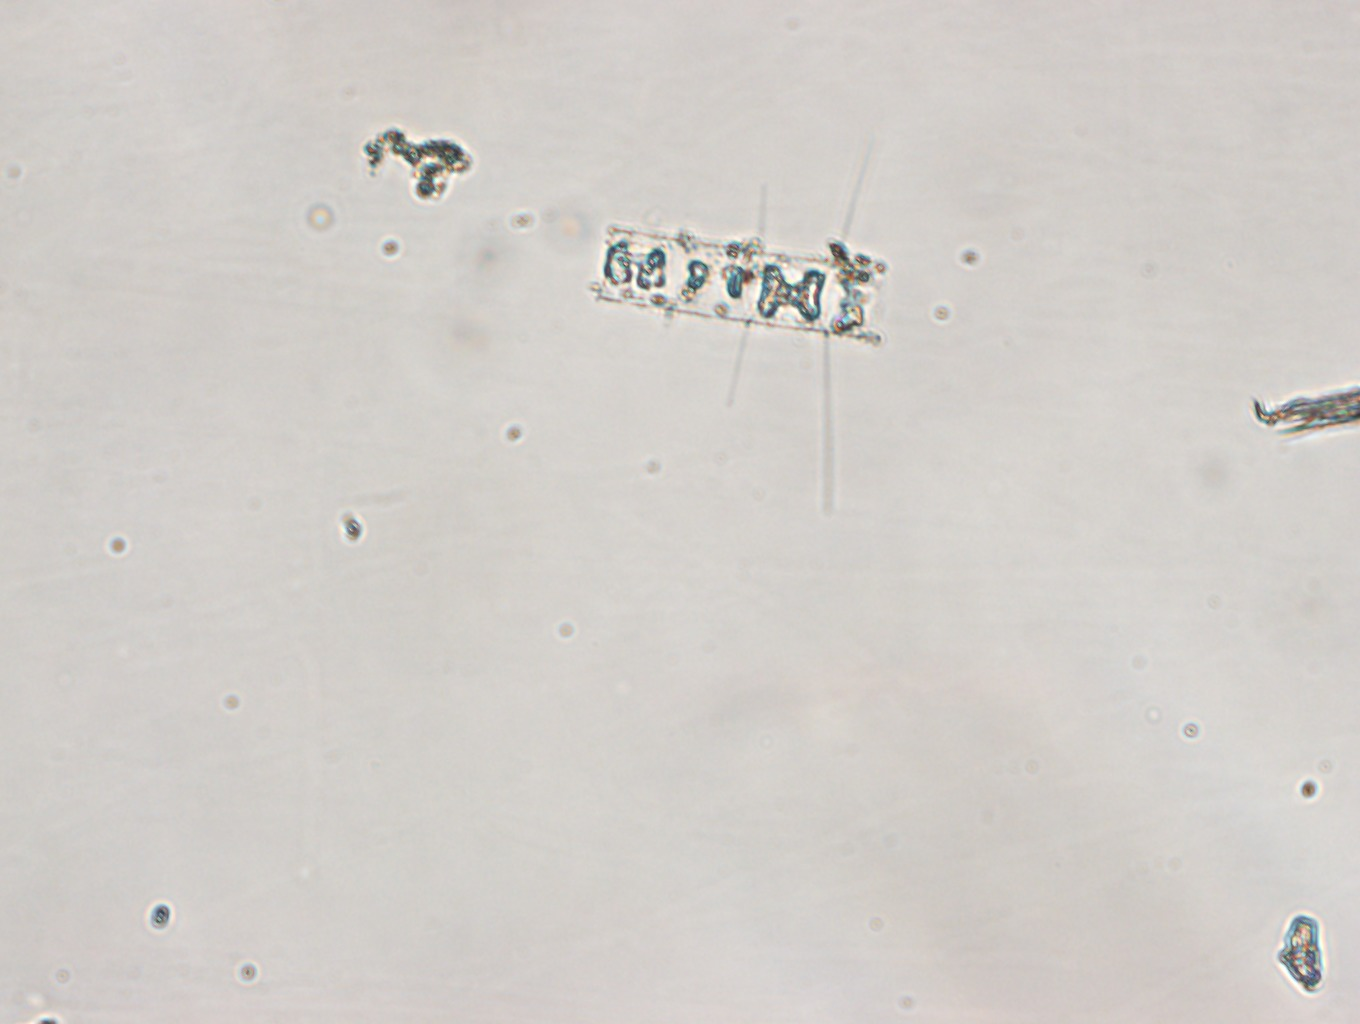chaetoceros: (599, 148, 875, 486)
